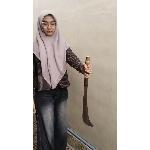Golok: (78, 52, 102, 134)
